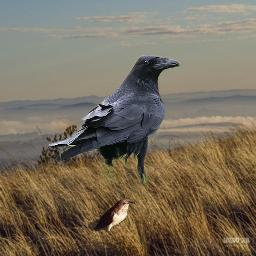Crow: (47, 55, 180, 184)
Cuckoo: (88, 199, 135, 233)
